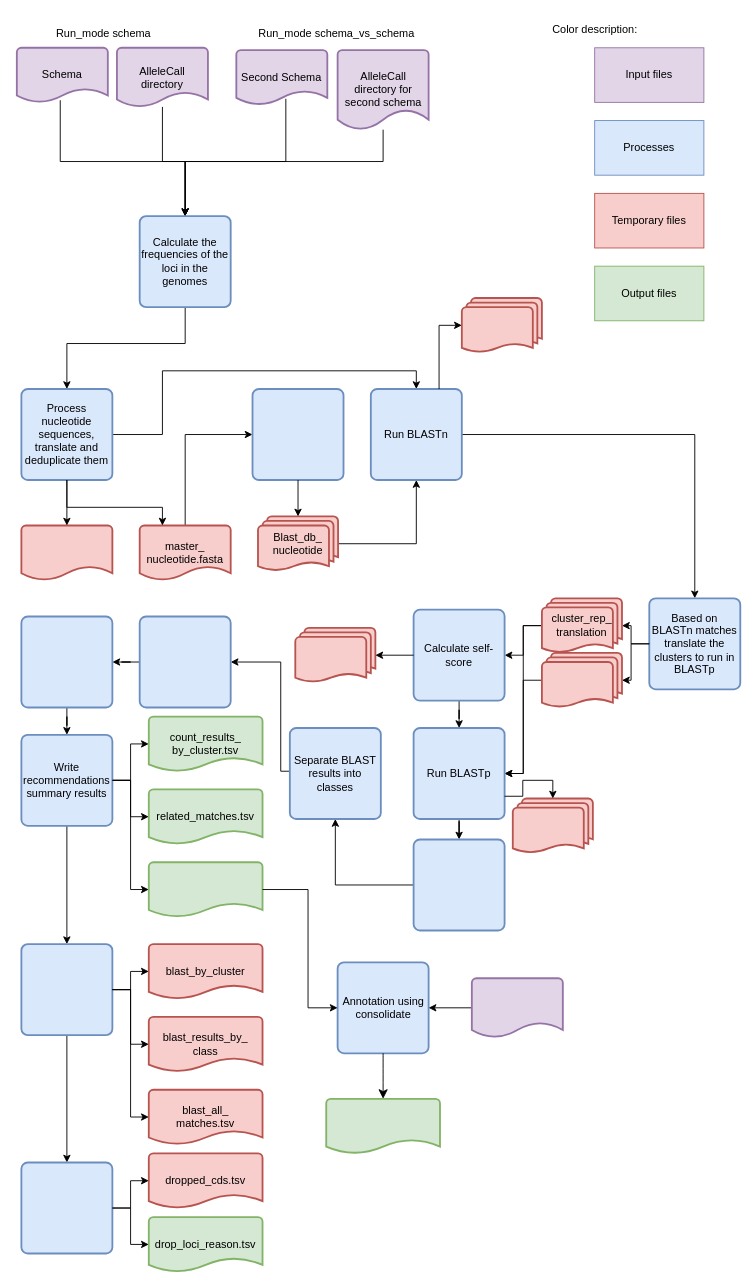
This 756x1288 diagram has some shape labels left out. The shapes that lost their labels are listed below. From the top down, each one's centre as x and y in pixels, then its label:
point 501,325: BLASTn_ results
point 297,434: Create BLASTn database
point 66,552: schema_translation _folder
point 66,661: Extract Results
point 184,661: Process Classes
point 335,655: self_score_ folder
point 581,680: blastn_results_ matches_ translations
point 552,825: BLASTp_ results
point 205,889: recommendations.tsv
point 458,884: Add various extra data to BLAST results dict (bsr values, paling...)
point 66,989: Write BLAST results
point 516,1007: TSV annotation files
point 382,1125: recommendations _annotations.tsv
point 66,1207: Write dropped CDS and dropped possible new loci
